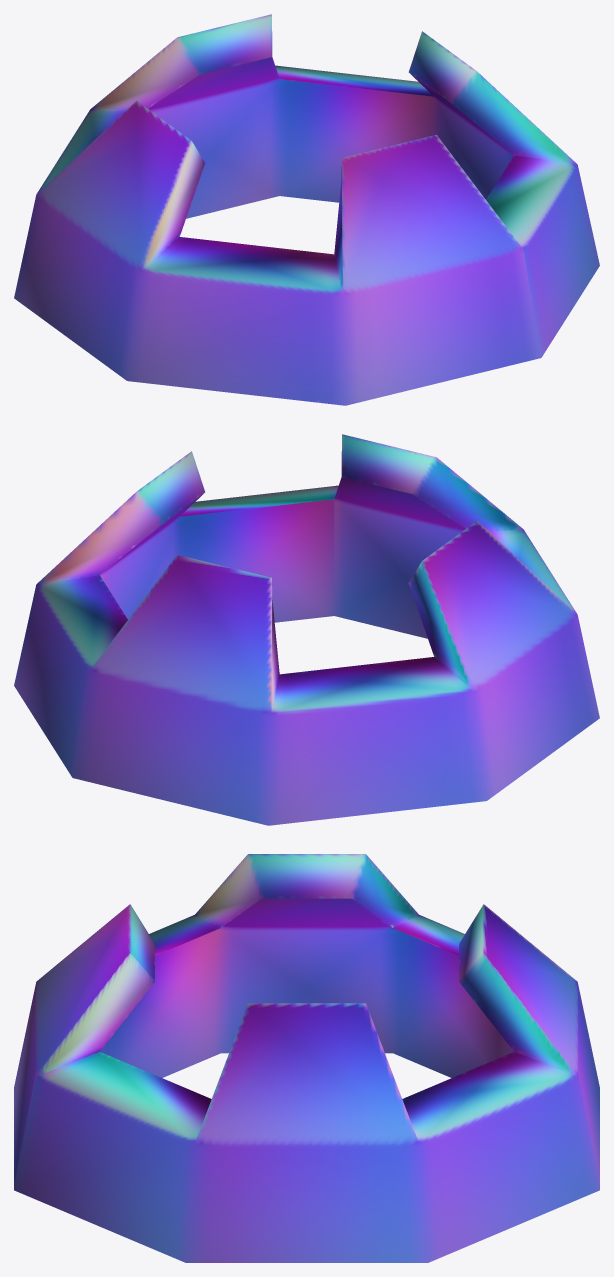
File: Rift.obj
The picture shows the model from 3 angles, top to bottom: view 1: azimuth 30°, elevation 25°; view 2: azimuth 150°, elevation 25°; view 3: azimuth 270°, elevation 25°; orthographic projection. The views are drawn at different scales.
Parts seen in each view (by area): view 1: Sphere.011_Sphere.026; view 2: Sphere.011_Sphere.026; view 3: Sphere.011_Sphere.026.
Part boxes in pixels (<box>): Sphere.011_Sphere.026: <box>14,14,599,405</box>; Sphere.011_Sphere.026: <box>14,434,599,825</box>; Sphere.011_Sphere.026: <box>14,854,599,1262</box>.
Bounding box in the file's own units: 3.34 × 1.33 × 3.34.
